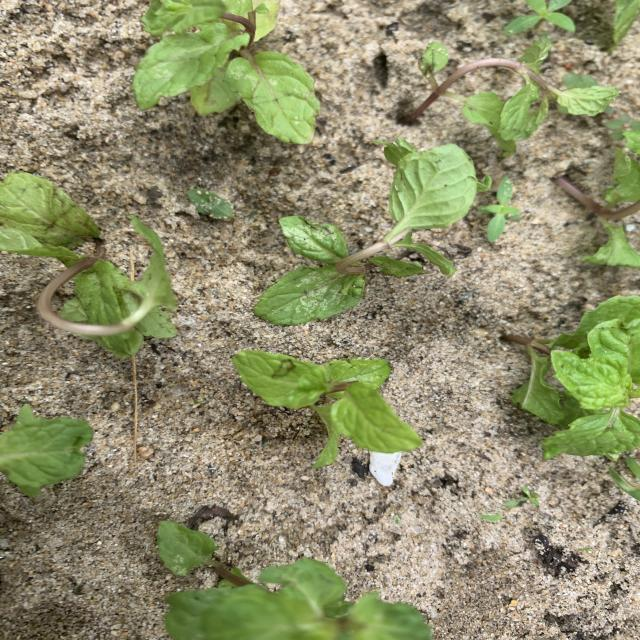crop: (255, 139, 481, 324), (1, 174, 177, 358), (157, 522, 431, 639), (135, 2, 319, 142), (405, 40, 618, 155), (504, 295, 639, 458), (236, 352, 421, 466), (559, 148, 639, 265), (1, 406, 92, 495), (613, 0, 639, 47)
weed: (477, 181, 521, 243), (505, 1, 574, 35), (604, 113, 639, 153), (188, 189, 234, 219), (610, 466, 639, 499), (521, 487, 539, 505), (480, 513, 503, 521)
